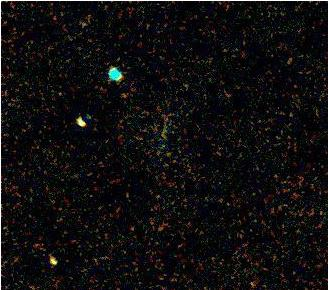star: (68, 6, 98, 36)
